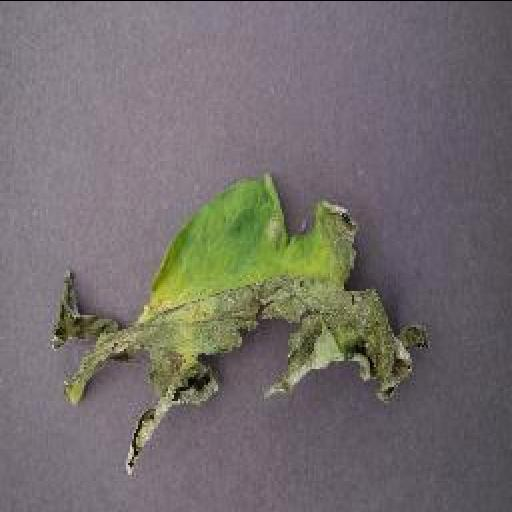disease_tomato: (52, 170, 434, 470)
